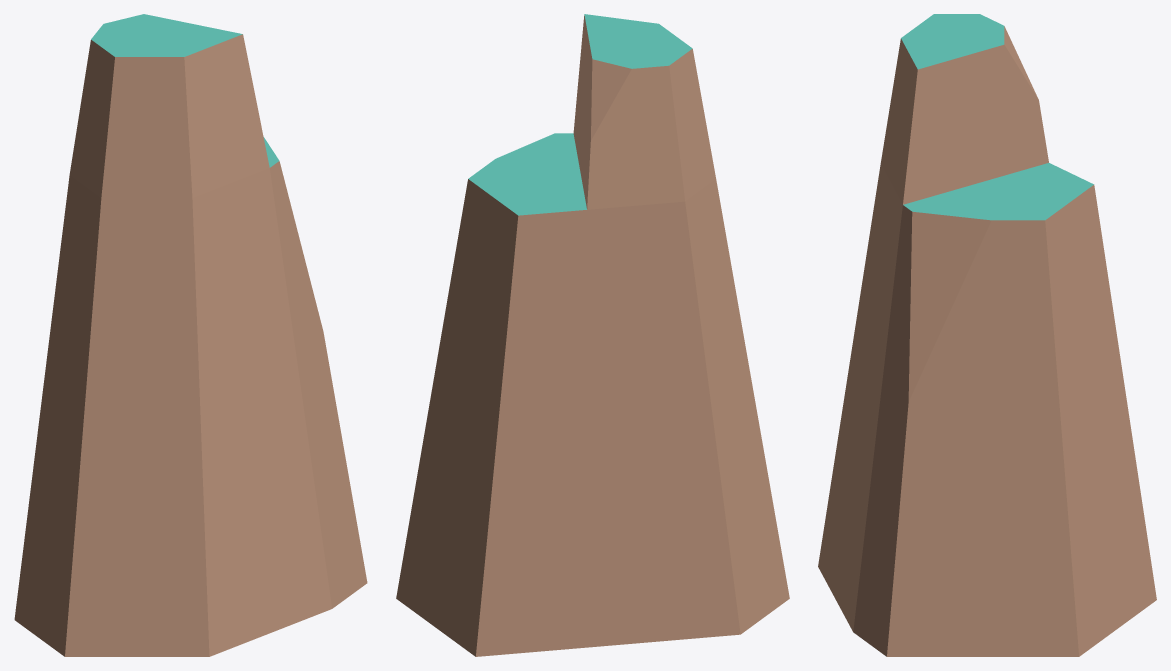
Rendered from rock_tallI.glb.
3 views of the same model, side by side, from view 1: azimuth 30°, elevation 25°; view 2: azimuth 150°, elevation 25°; view 3: azimuth 270°, elevation 25° (orthographic). The views are drawn at different scales.
Parts seen in each view (by area): view 1: rock_tallI; view 2: rock_tallI; view 3: rock_tallI.
Part boxes in pixels (box(x1,y1,x2,y2)): rock_tallI: box(14, 14, 367, 656); rock_tallI: box(396, 14, 789, 656); rock_tallI: box(818, 14, 1156, 656).
Bounding box in the file's own units: 0.4562 × 0.8118 × 0.4644.
